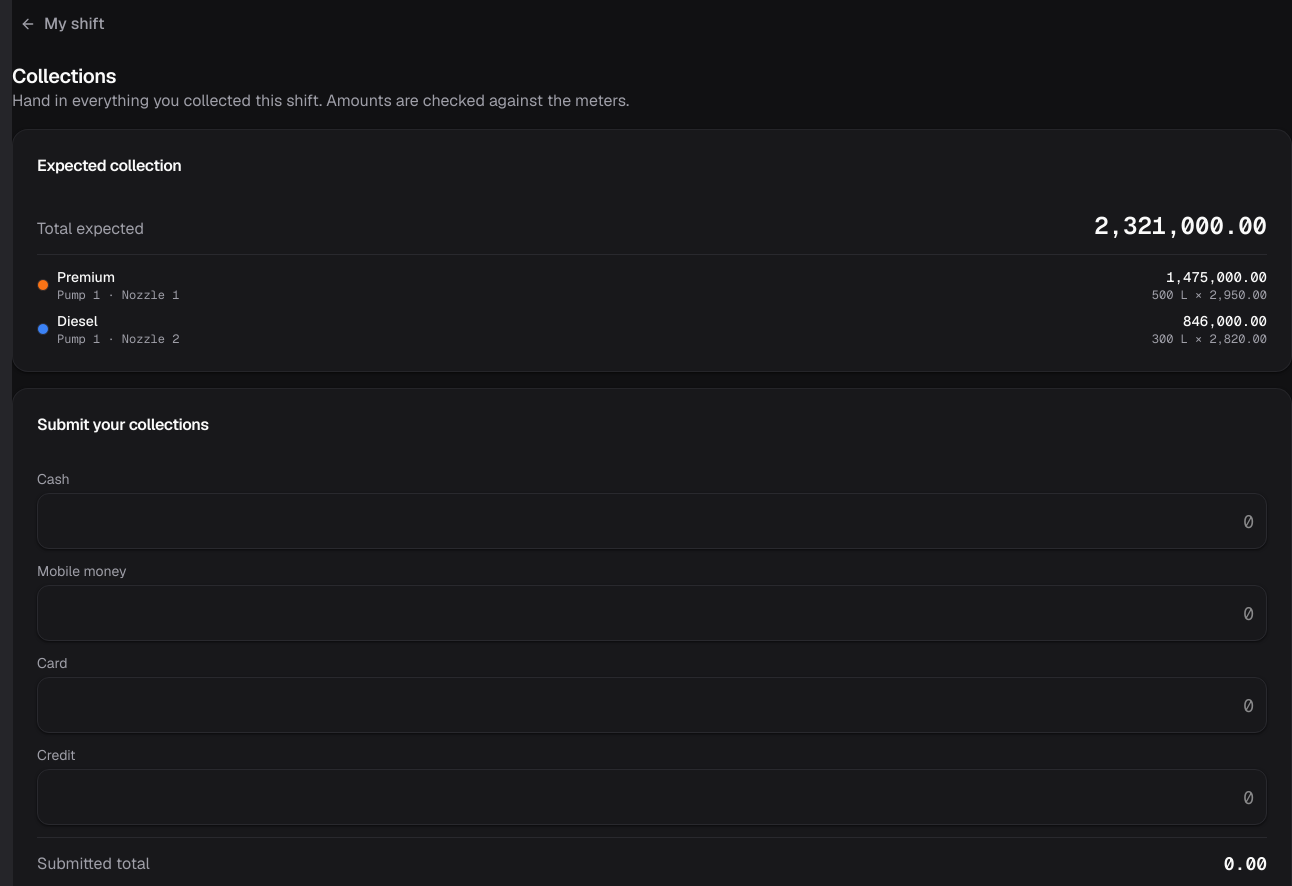
Test: CollectionsPage › rejects a malformed tender with a plain-language error
Type "2,000" into the field labelled "Cash" at (652, 521), box x1=37 y1=493 x2=1267 y2=549
(page scrolled)
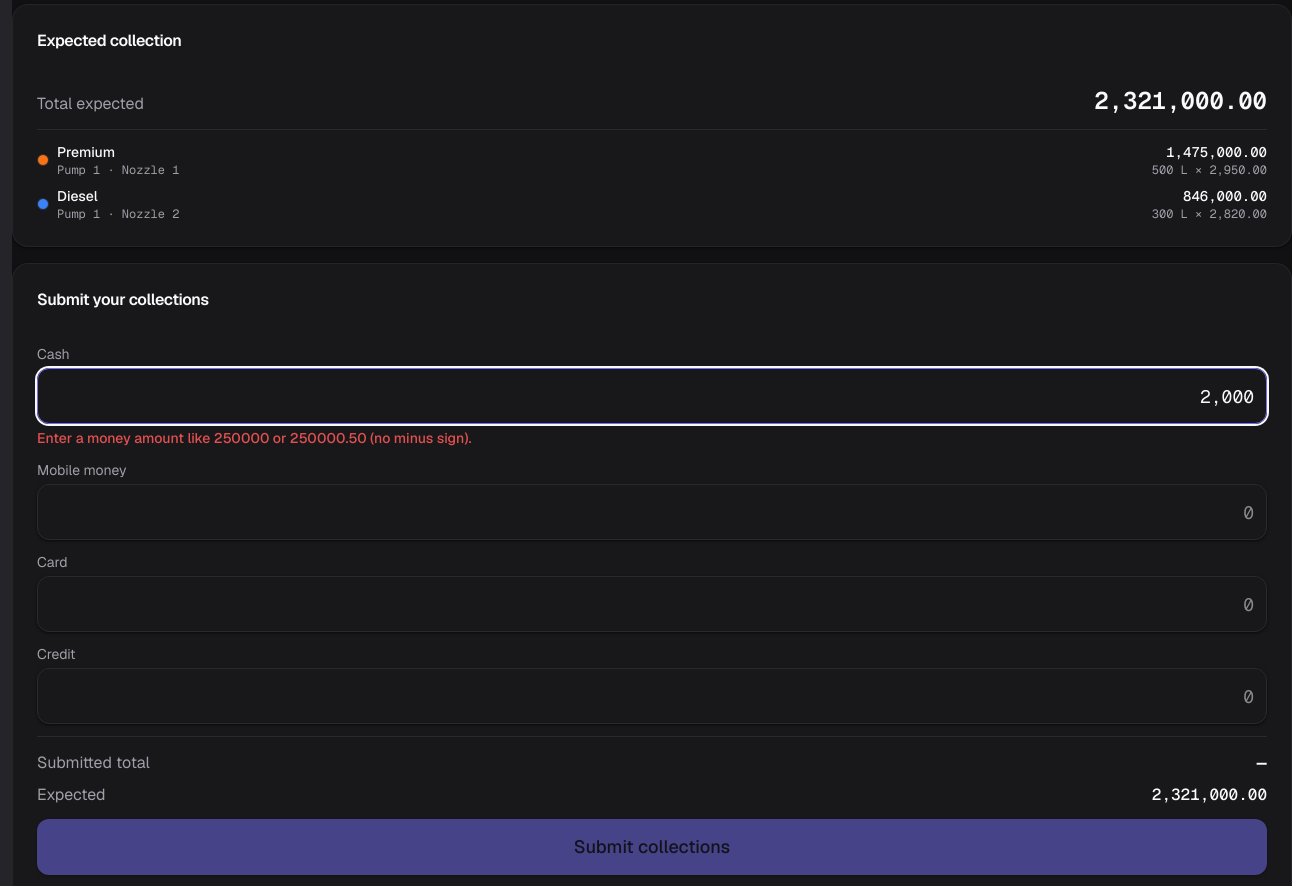
expect the button "Submit collections" is disabled: met, box x1=37 y1=819 x2=1267 y2=875
expect the text "Enter a money amount like 250000 or 250000.50 (no minus sign)." is shown: met, box x1=37 y1=429 x2=471 y2=447
